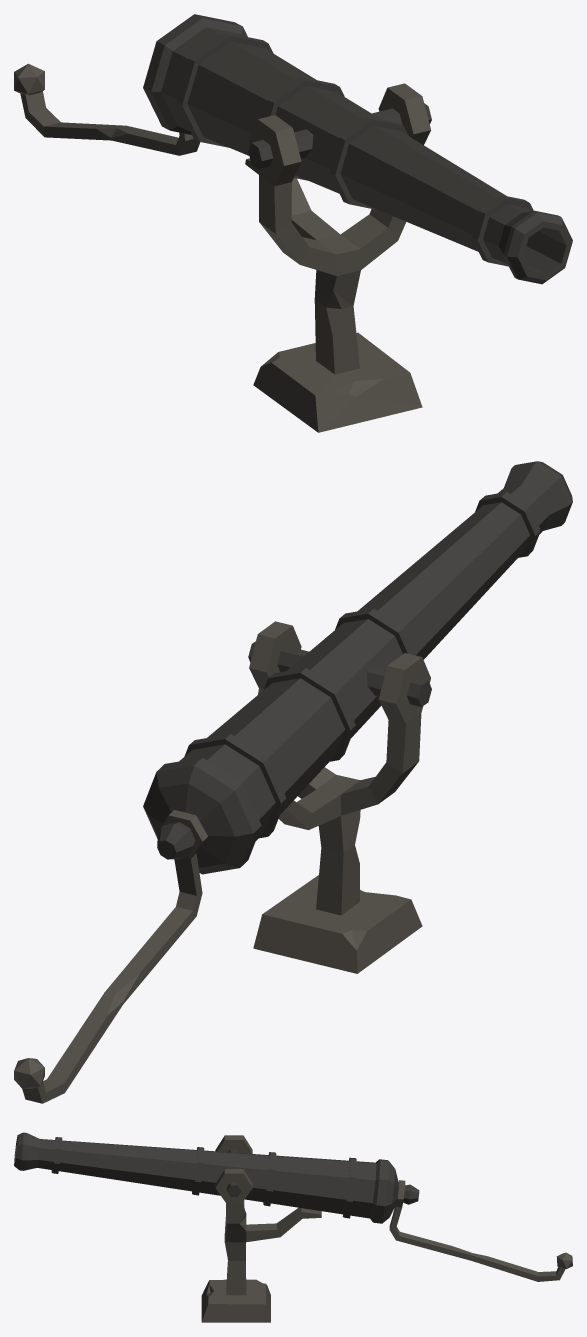
File: SwivelCannon.fbx
3 renders of one model, top to bottom at view 1: azimuth 30°, elevation 25°; view 2: azimuth 150°, elevation 25°; view 3: azimuth 270°, elevation 25°, orthographic. The views are drawn at different scales.
Visible parts, largest first — view 1: Swivel Cannon_1_Barrel, SwivelCannon; view 2: Swivel Cannon_1_Barrel, SwivelCannon; view 3: Swivel Cannon_1_Barrel, SwivelCannon.
Boxes of the visible parts, <box> form: Swivel Cannon_1_Barrel: <box>14,14,572,284</box>; SwivelCannon: <box>245,83,430,432</box>; Swivel Cannon_1_Barrel: <box>14,461,572,1103</box>; SwivelCannon: <box>249,621,430,973</box>; Swivel Cannon_1_Barrel: <box>14,1132,572,1281</box>; SwivelCannon: <box>201,1135,321,1322</box>.
Bounding box in the file's own units: 20.89 × 38.73 × 112.
